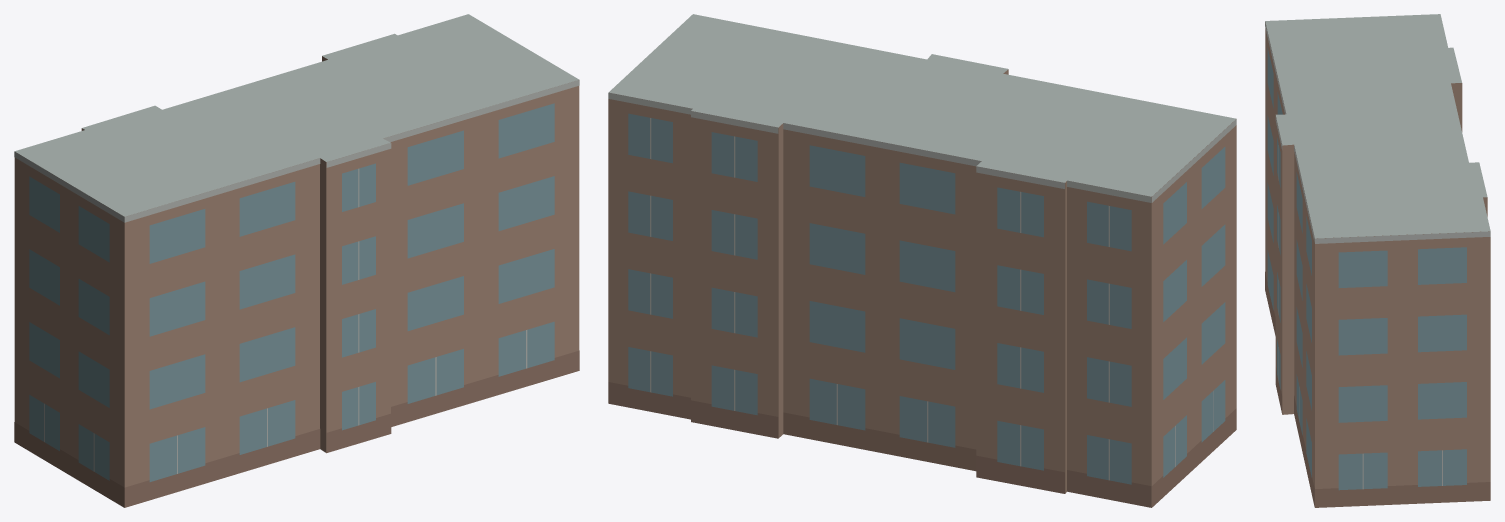
Rendered from survey-upis-32655162.glb.
The picture shows the model from 3 angles, left to right: view 1: azimuth 30°, elevation 25°; view 2: azimuth 150°, elevation 25°; view 3: azimuth 270°, elevation 25°; orthographic projection. The views are drawn at different scales.
Parts seen in each view (by area): view 1: survey-upis-32655162.tmp; view 2: survey-upis-32655162.tmp; view 3: survey-upis-32655162.tmp.
Boxes of the visible parts, x1,y1,x2,y2 form: survey-upis-32655162.tmp: (14, 14, 579, 507); survey-upis-32655162.tmp: (608, 14, 1236, 507); survey-upis-32655162.tmp: (1265, 14, 1490, 507).
Bounding box in the file's own units: 21.46 × 12 × 9.12.
